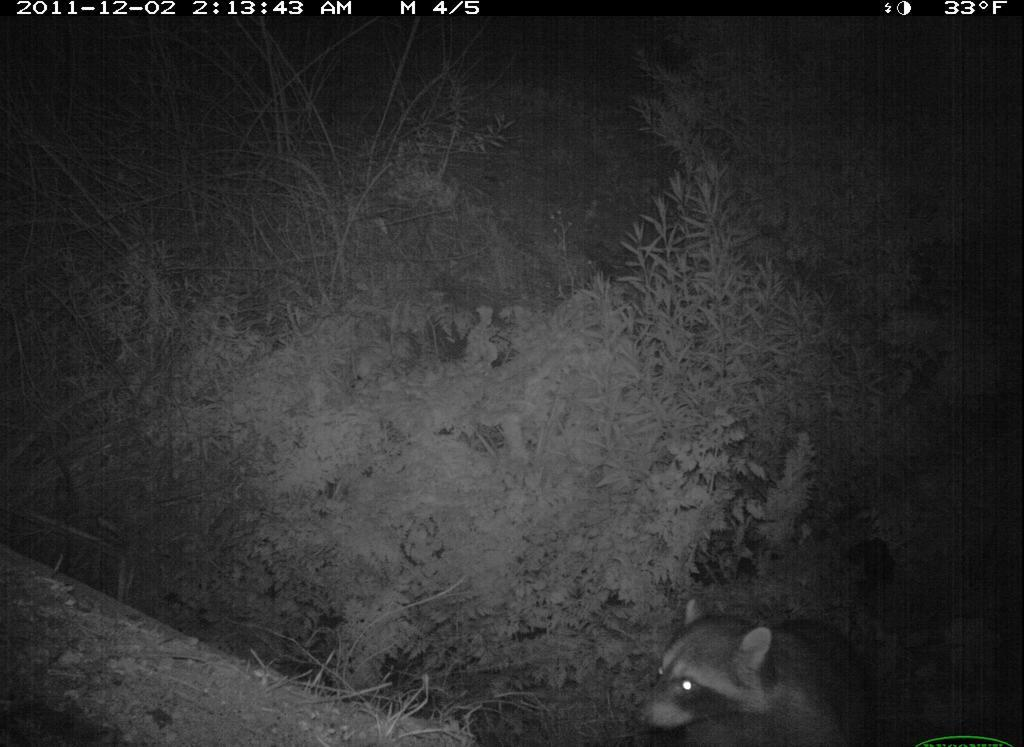raccoon: (634, 585, 890, 747)
